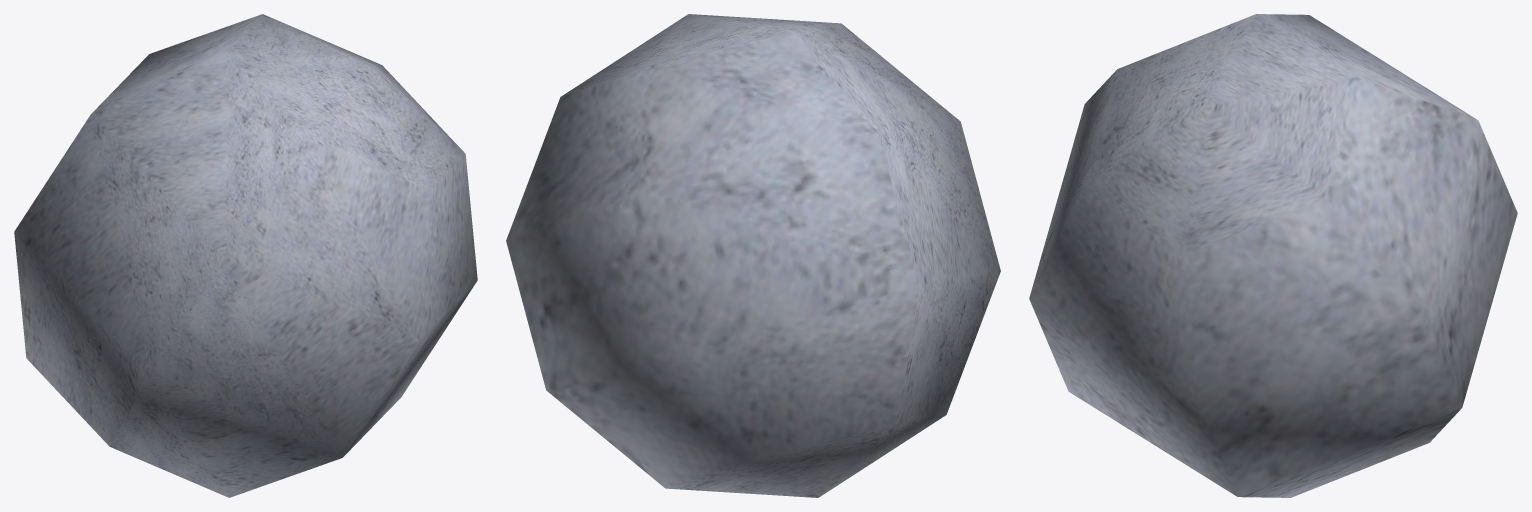
Rendered from snowball.fbx.
3 views of the same model, side by side, from view 1: azimuth 30°, elevation 25°; view 2: azimuth 150°, elevation 25°; view 3: azimuth 270°, elevation 25° (orthographic). The views are drawn at different scales.
Visible parts, largest first — view 1: snowball; view 2: snowball; view 3: snowball.
Boxes of the visible parts, x1,y1,x2,y2 form: snowball: (14, 14, 477, 497); snowball: (506, 14, 1000, 497); snowball: (1029, 14, 1517, 497).
Size of the model in its own units: 87.31 by 92.61 by 90.03.
1 material, 1 textured.
